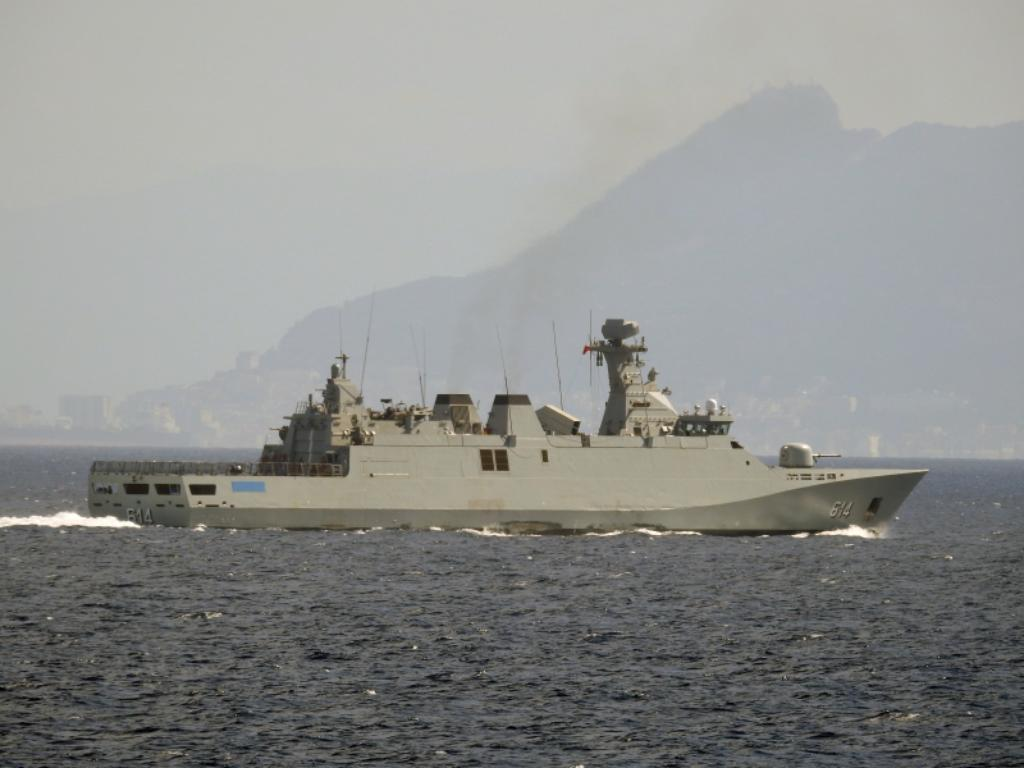Warship: (80, 304, 938, 538)
